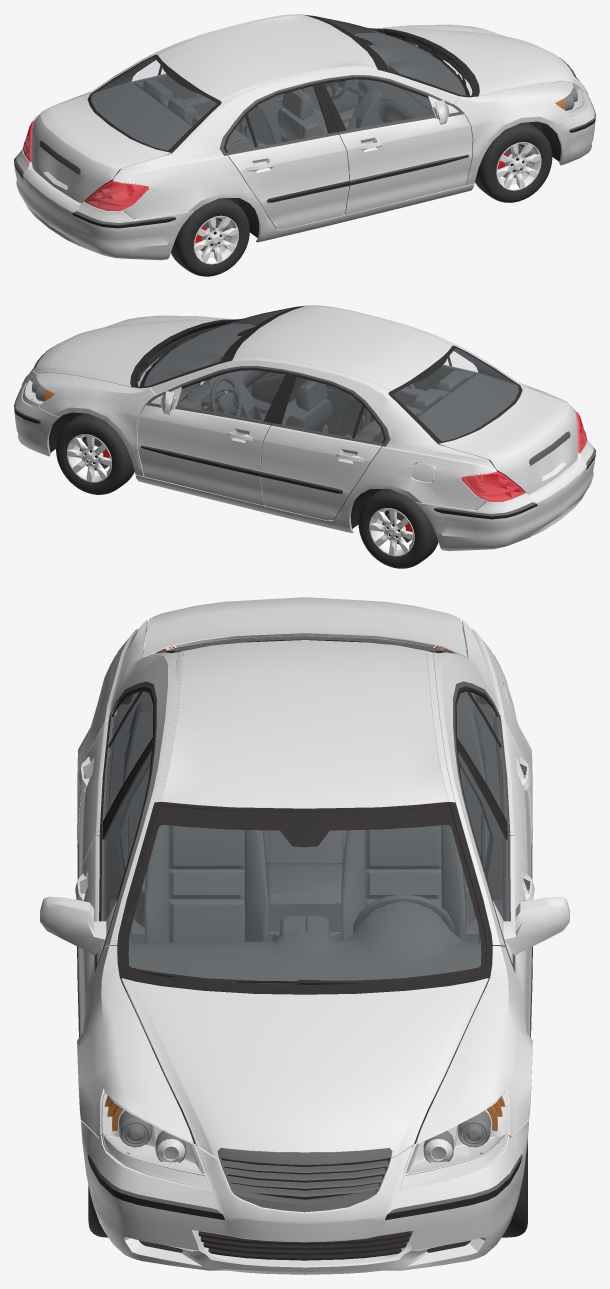
File: SEDAN08.obj
The picture shows the model from 3 angles, top to bottom: view 1: azimuth 30°, elevation 25°; view 2: azimuth 150°, elevation 25°; view 3: azimuth 270°, elevation 25°; orthographic projection. The views are drawn at different scales.
Visible parts, largest first — view 1: 08; view 2: 08; view 3: 08.
Boxes of the visible parts, x1,y1,x2,y2 form: 08: [14, 14, 595, 276]; 08: [14, 305, 595, 568]; 08: [40, 597, 569, 1274].
Size of the model in its own units: 4.93 by 1.46 by 2.13.
